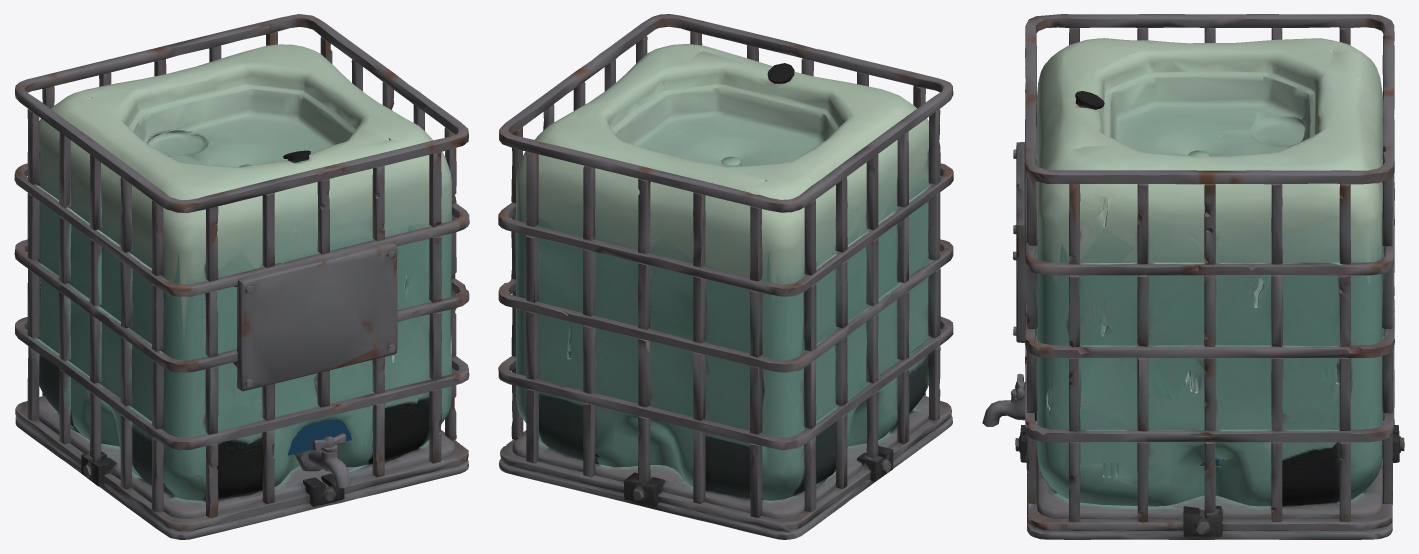
The model's file is tank_water_plastikovyy_1000_l.glb.
The picture shows the model from 3 angles, left to right: view 1: azimuth 30°, elevation 25°; view 2: azimuth 150°, elevation 25°; view 3: azimuth 270°, elevation 25°; orthographic projection. The views are drawn at different scales.
Parts seen in each view (by area): view 1: body, cap; view 2: body; view 3: body, cap.
Part boxes in pixels (left/top/right/bottom): body: left=14, top=14, right=469, bottom=539; cap: left=160, top=129, right=208, bottom=155; body: left=498, top=14, right=953, bottom=539; body: left=982, top=14, right=1404, bottom=539; cap: left=1252, top=129, right=1305, bottom=146.
Size of the model in its own units: 1.88 by 1.9 by 1.98.
4 materials, 3 textured.
